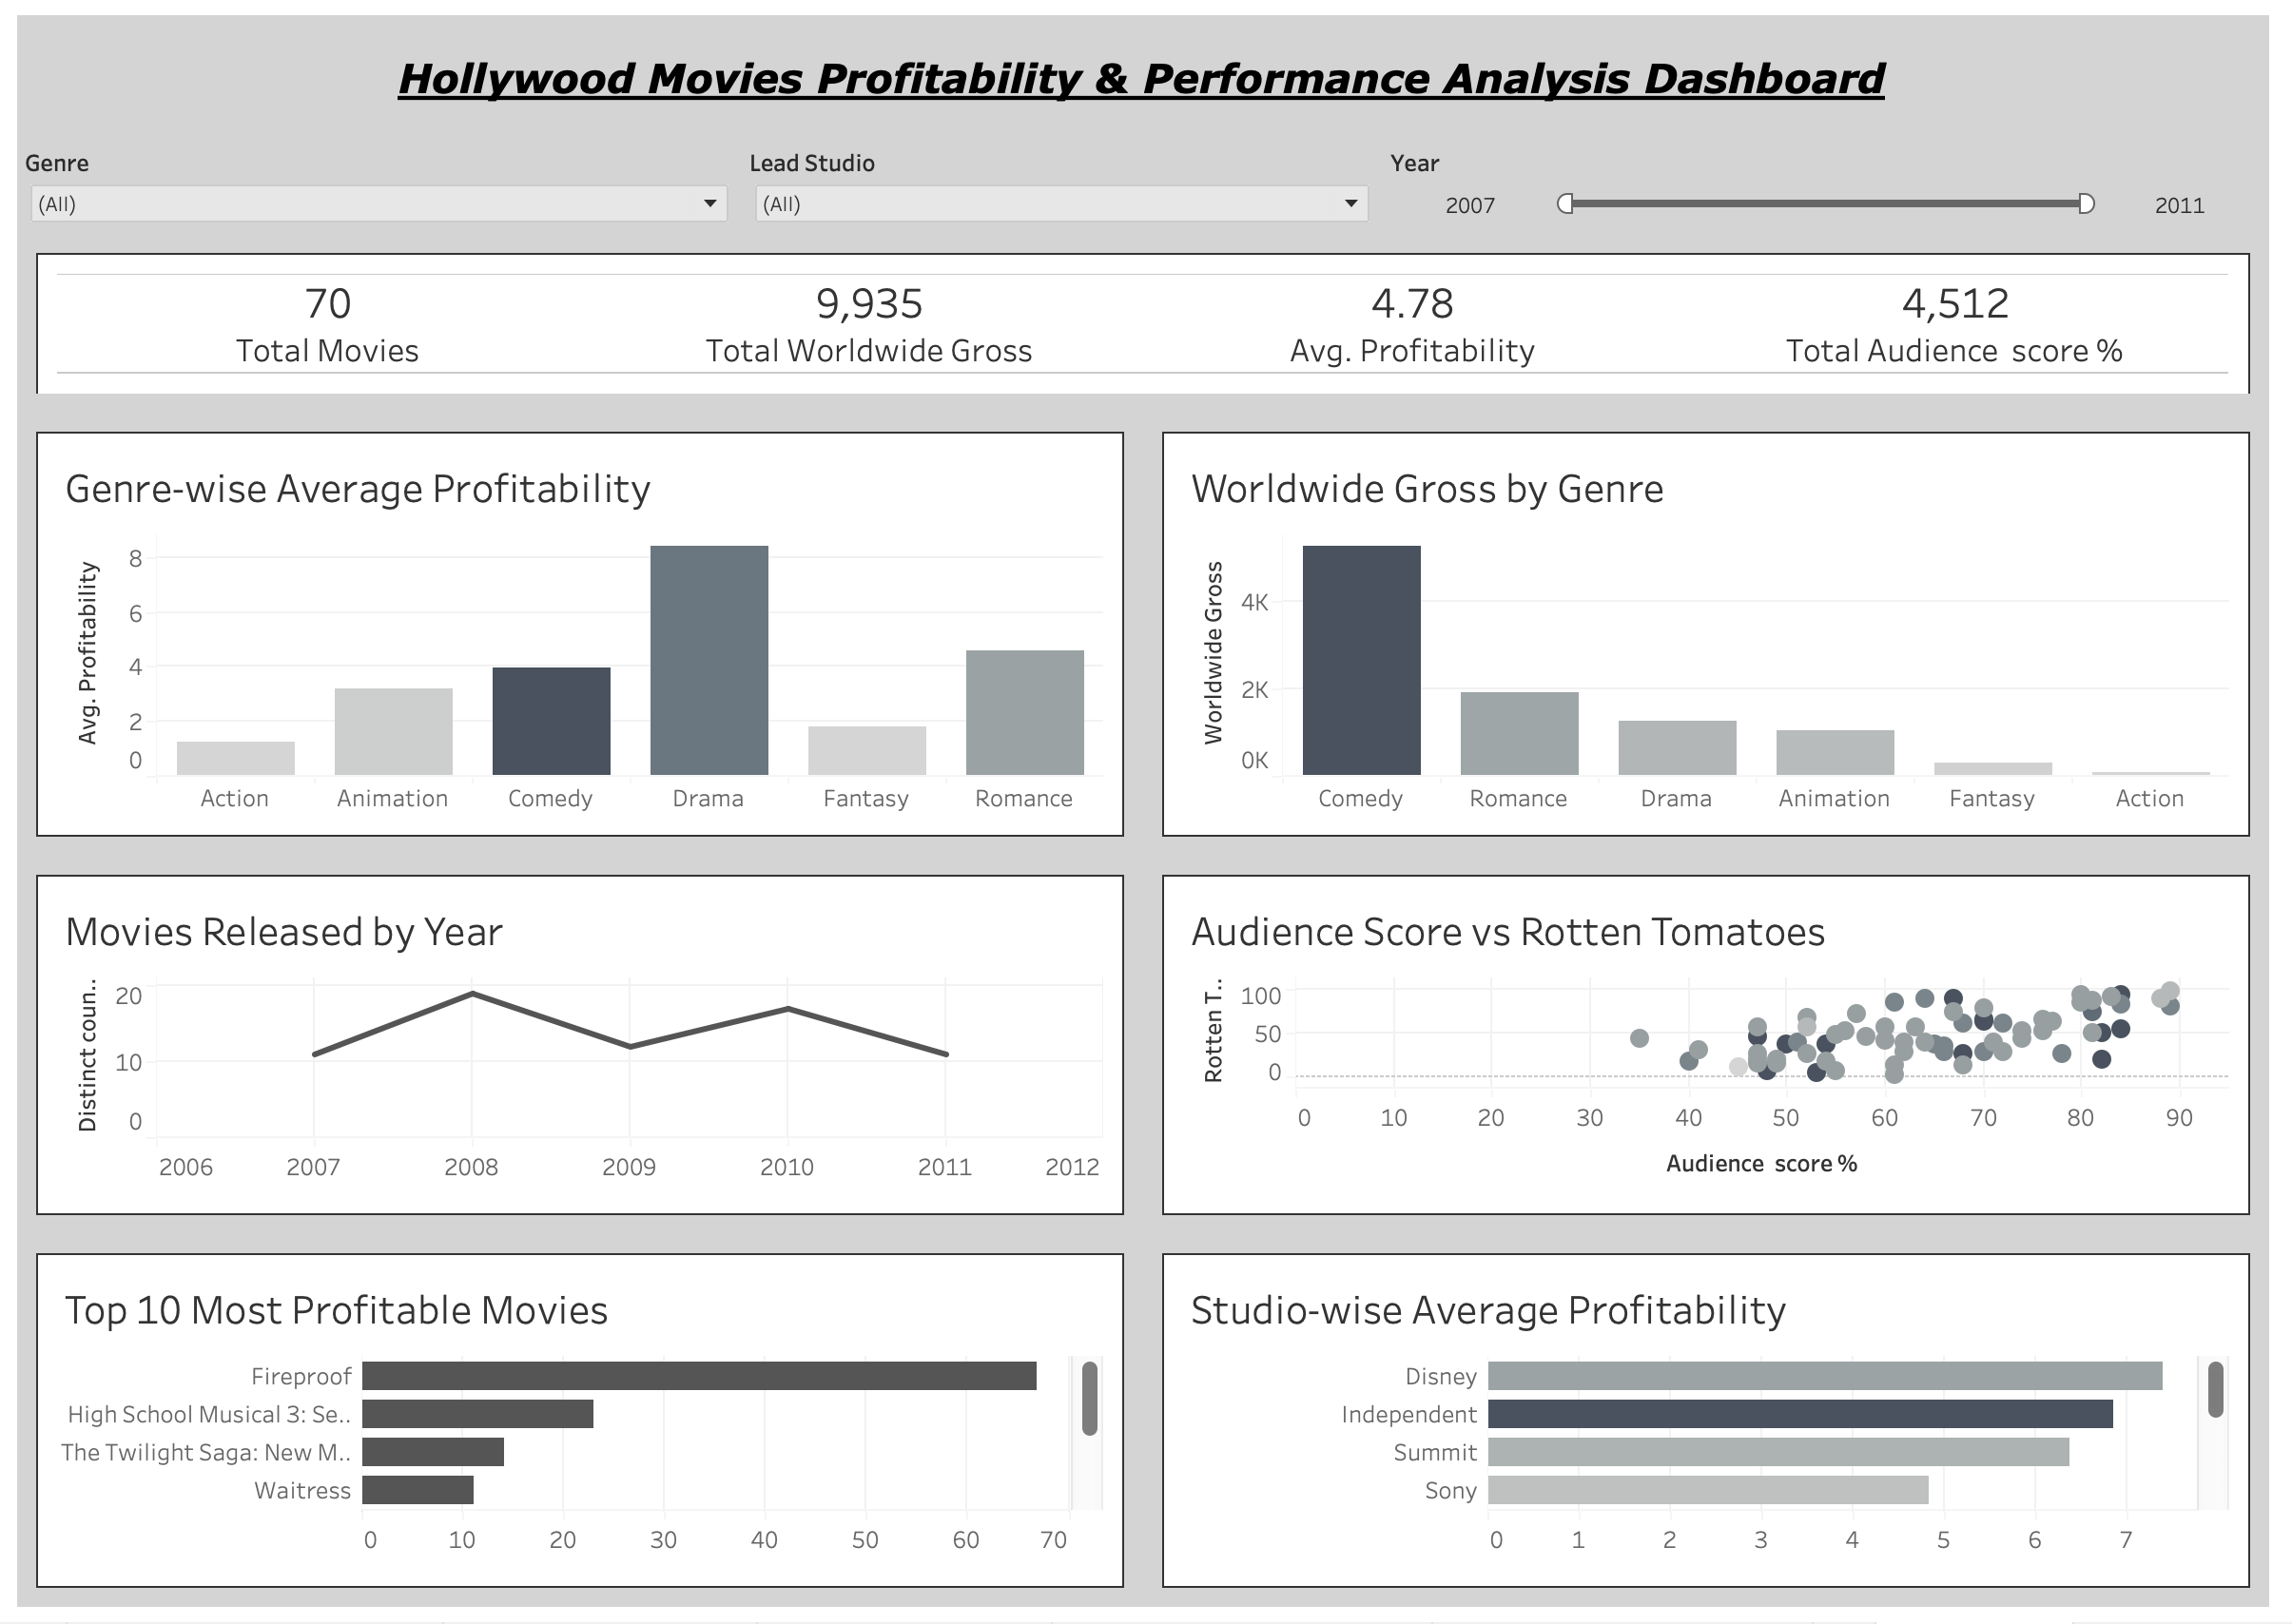

What the dashboard file says about the page in this screenshot:
{"tool":"tableau","page":{"name":"Dashboard 1","canvas":[1000,1000],"units":"permille","ordinal":0},"visuals":[{"type":"text","box":[5.5,5.7,864.8,92.9]},{"type":"filter","title":"Genre-wise Average Profitability","param":"[federated.1mtemf3193u9np195xvj812trlg9].[none:Genre:nk]","box":[877.9,13.6,109,37.1]},{"type":"image","param":"/Users/lavanya/Downloads/Hollywood Movie Profitability & Performance Analysis (2","box":[22.8,23.6,126.2,67.9]},{"type":"filter","title":"Movies Released by Year","param":"[federated.1mtemf3193u9np195xvj812trlg9].[none:Year:qk]","box":[877.9,50.7,109,49.3]},{"type":"worksheet","title":"KPI","mark":"Automatic","box":[5.5,98.6,864.8,95]},{"type":"filter","title":"Studio-wise Average Profitability","param":"[federated.1mtemf3193u9np195xvj812trlg9].[none:Lead Studio:nk]","box":[877.9,100,109,37.1]},{"type":"worksheet","title":"Genre-wise Average Profitability","mark":"Automatic","rows":["Profitability"],"cols":["Genre"],"box":[5.5,193.6,432.4,280]},{"type":"worksheet","title":"Worldwide Gross by Genre","mark":"Automatic","rows":["Worldwide Gross"],"cols":["Genre"],"box":[437.9,193.6,432.5,280]},{"type":"worksheet","title":"Movies Released by Year","mark":"Automatic","rows":["Film"],"cols":["Year"],"box":[5.5,473.6,537.9,230]},{"type":"worksheet","title":"Audience Score vs Rotten Tomatoes","mark":"Circle","rows":["Rotten Tomatoes %"],"cols":["Audience  score %"],"box":[543.4,473.6,326.9,230]},{"type":"worksheet","title":"Top 10 Most Profitable Movies","mark":"Automatic","rows":["Film"],"cols":["Profitability"],"box":[5.5,703.6,433.1,290.7]},{"type":"worksheet","title":"Studio-wise Average Profitability","mark":"Automatic","rows":["Lead Studio"],"cols":["Profitability"],"box":[438.6,703.6,431.7,290.7]}]}

Visuals, with their boxes on the dashboard's canvas, which has no fixed pixel size, in thousandths of its width and height (x1, y1, x2, y2). These are canvas units, not pixel positions in the 2292x1624 screenshot, which may show the page scaled, cropped or inside an application window:
text: l=6, t=6, r=870, b=99
"Genre-wise Average Profitability" filter: l=878, t=14, r=987, b=51
image: l=23, t=24, r=149, b=92
"Movies Released by Year" filter: l=878, t=51, r=987, b=100
"KPI" worksheet: l=6, t=99, r=870, b=194
"Studio-wise Average Profitability" filter: l=878, t=100, r=987, b=137
"Genre-wise Average Profitability" worksheet: l=6, t=194, r=438, b=474
"Worldwide Gross by Genre" worksheet: l=438, t=194, r=870, b=474
"Movies Released by Year" worksheet: l=6, t=474, r=543, b=704
"Audience Score vs Rotten Tomatoes" worksheet (Circle marks): l=543, t=474, r=870, b=704
"Top 10 Most Profitable Movies" worksheet: l=6, t=704, r=439, b=994
"Studio-wise Average Profitability" worksheet: l=439, t=704, r=870, b=994
